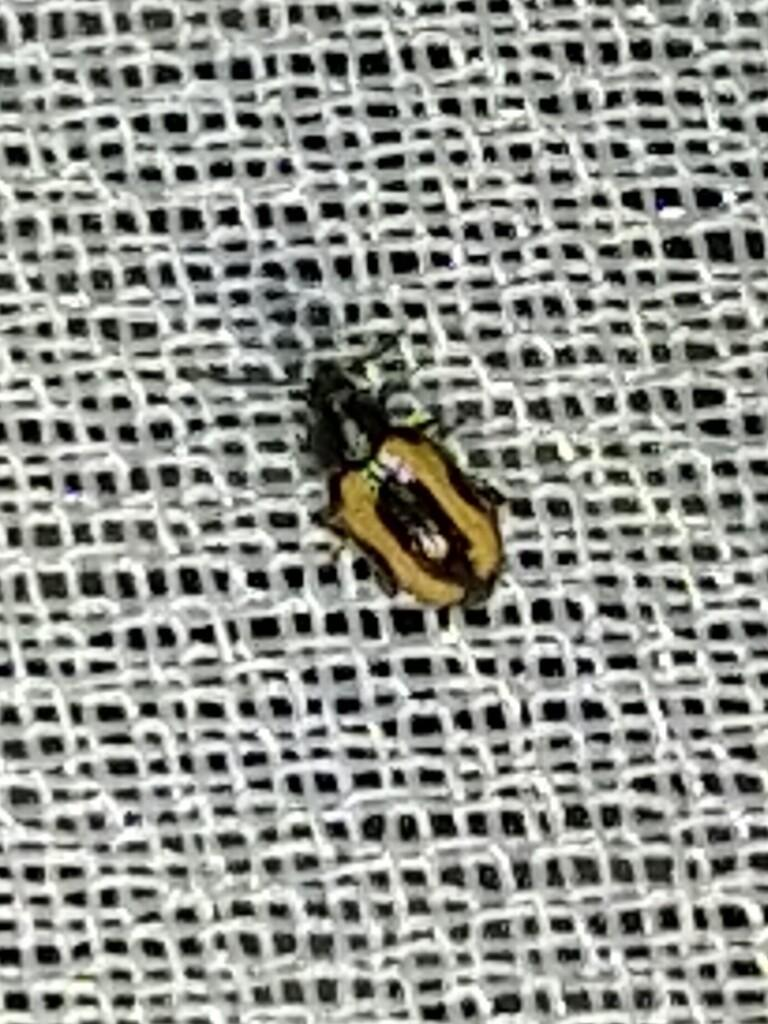flea_beetle: (222, 313, 600, 694)
